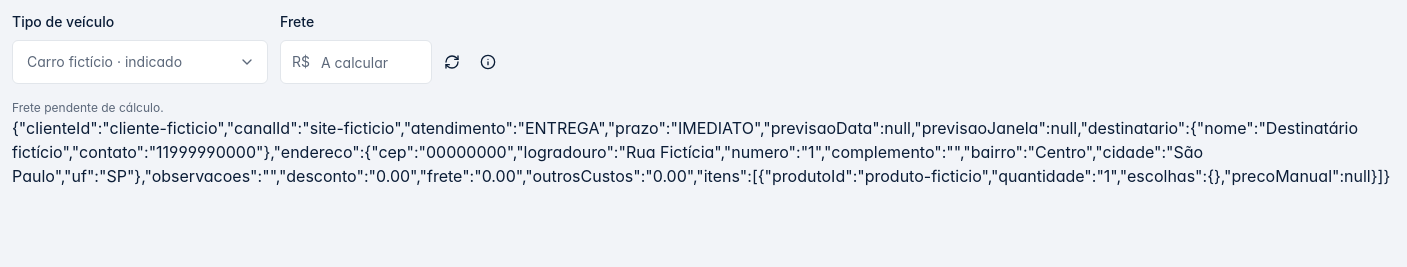
Scenario: Linha compacta de veículo e frete › indica frete manual, conserva recibo e volta ao automático quando o valor coincide em centavos
Click the button named "Calcular frete por rota". click: point(452, 62)
box: [436,46,468,78]
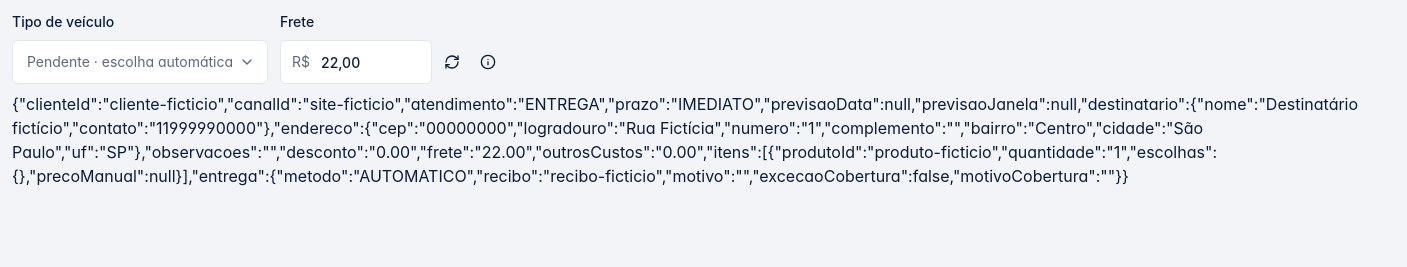
Replace the text in the field labelled "Frete" with "1900". click: point(356, 62)
box: [280,40,432,84]
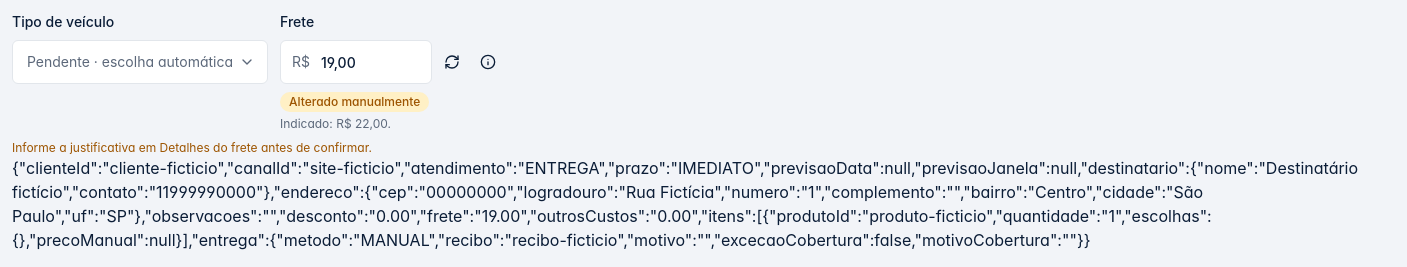
Result: the text "Alterado manualmente" is shown at [280,92,429,112]
Result: the text "Indicado: R$ 22,00." is shown at [280,116,391,132]
Replace the text in the field labelled "Frete" with "2200". click: point(356, 62)
box: [280,40,432,84]
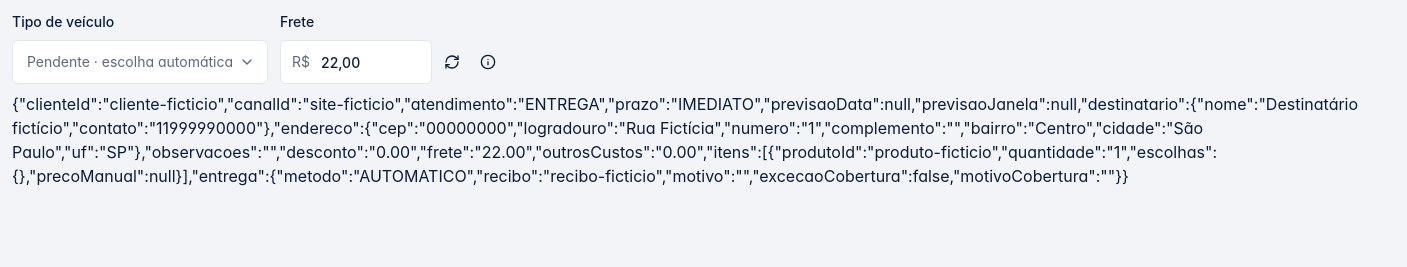
Result: the text "Alterado manualmente" is gone
